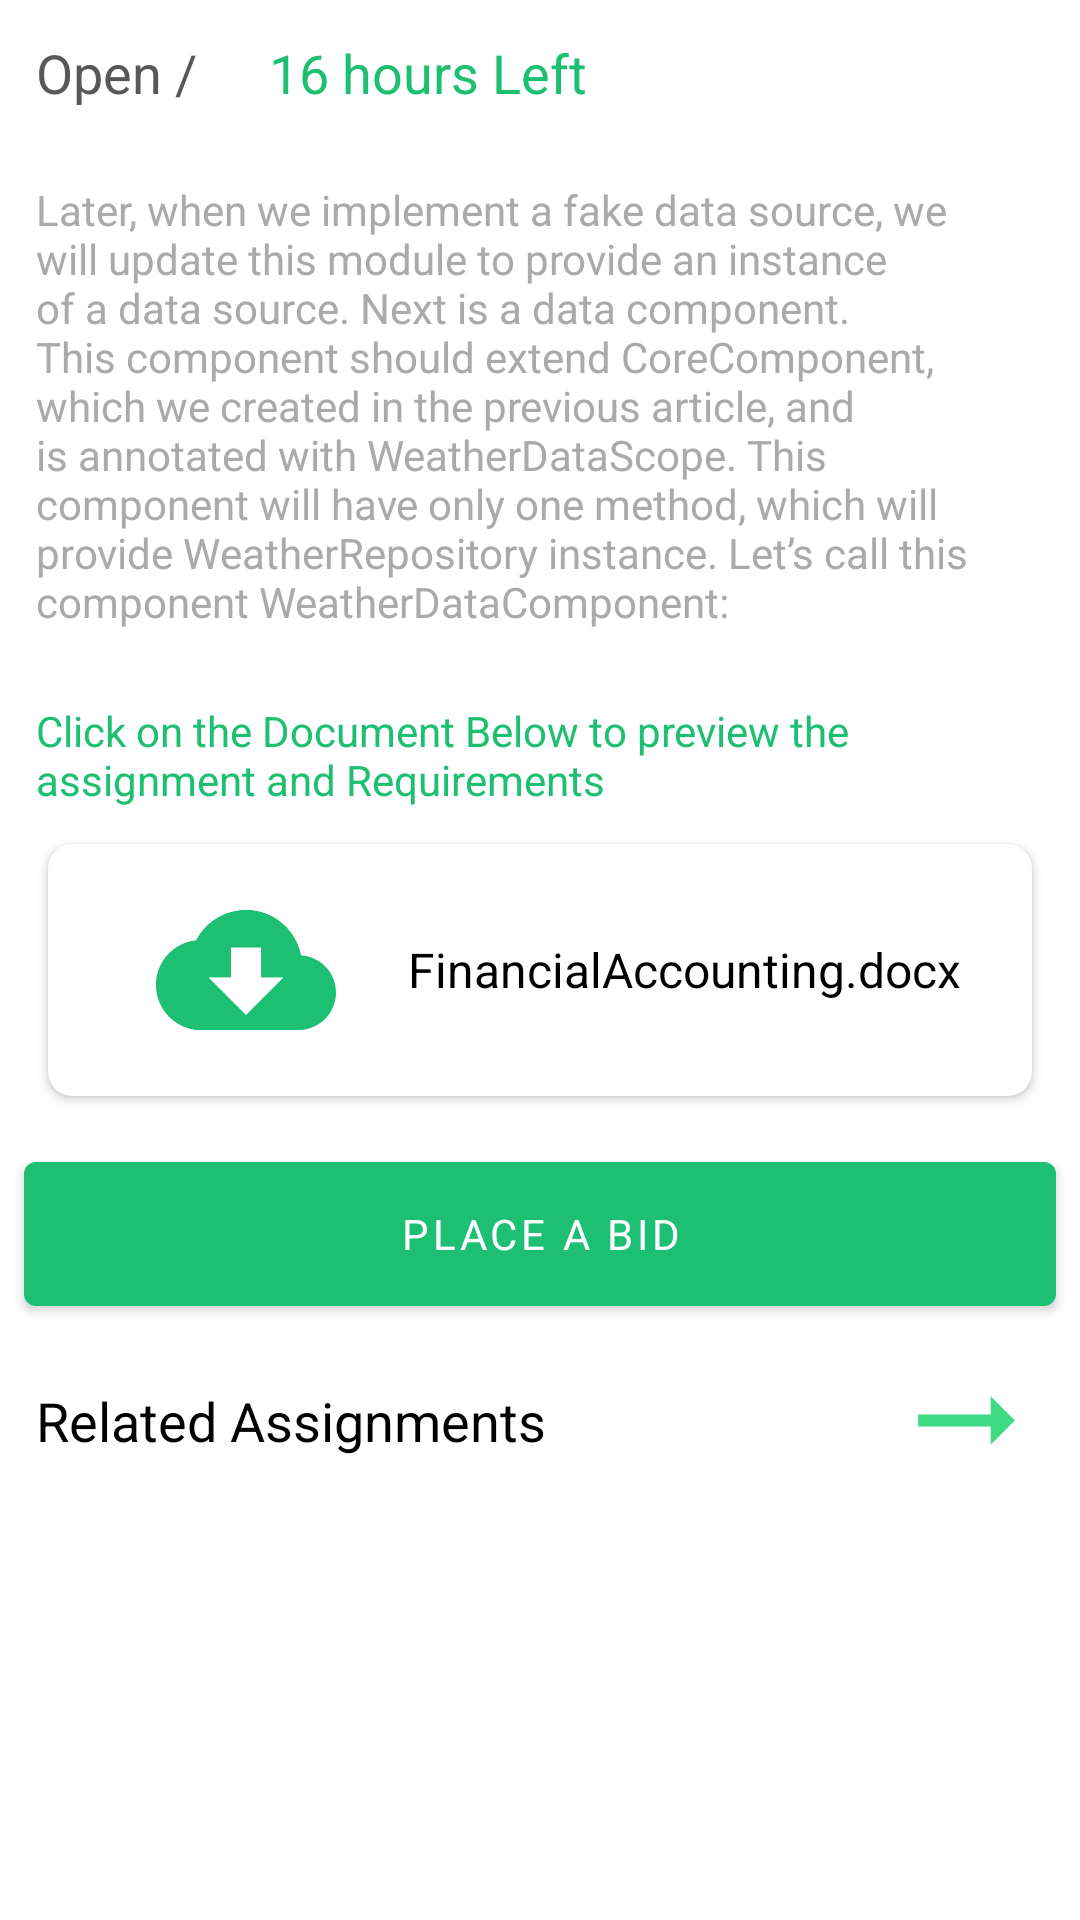

Icon bounding boxes for this 1080 x 1920 phone screenshot, format [x1=x1, y1=y1, x2=x2, y2=y2]:
arrow: [x1=918, y1=1396, x2=1015, y2=1445]
download: [x1=156, y1=910, x2=336, y2=1030]
